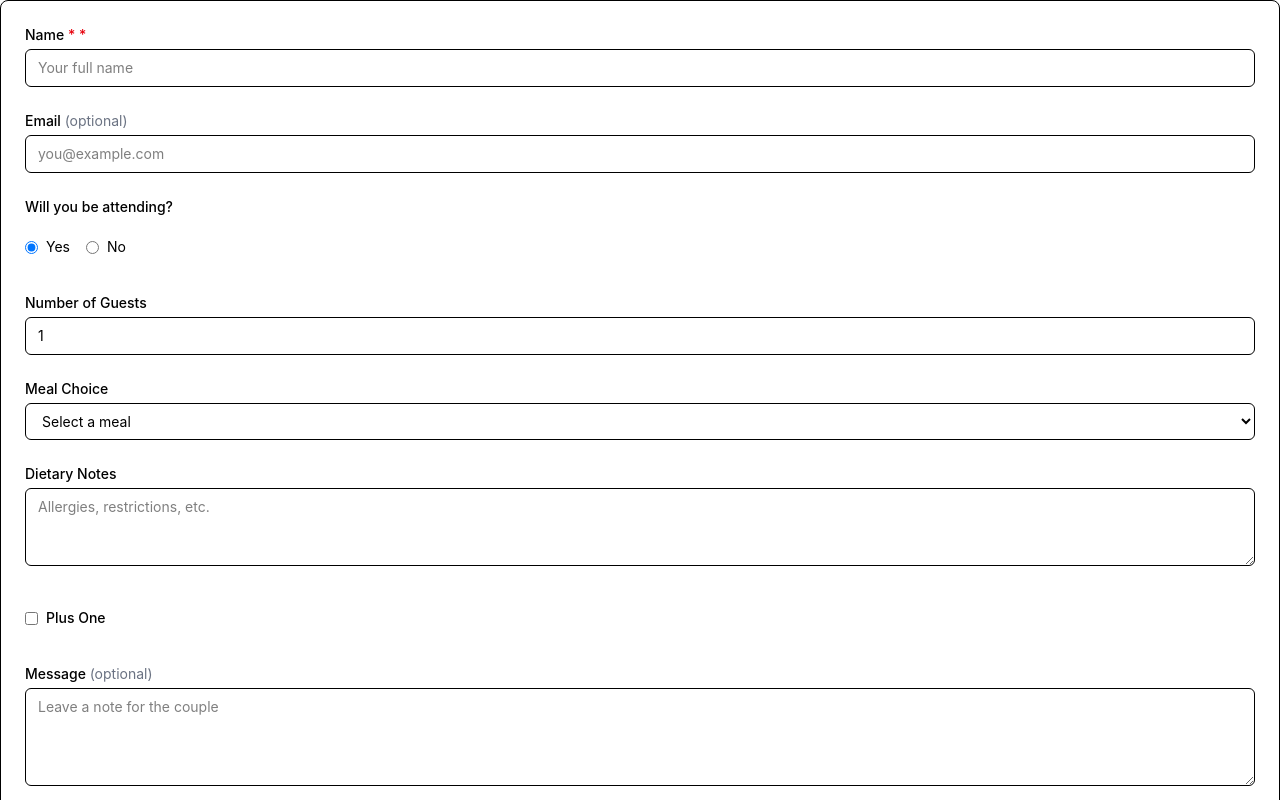
Test: RsvpForm › shows mealChoice only when attending
The width and height of the screenshot is (1280, 800).
Click the radio button labelled "No". click: (92, 247)
box: [86,240,99,254]
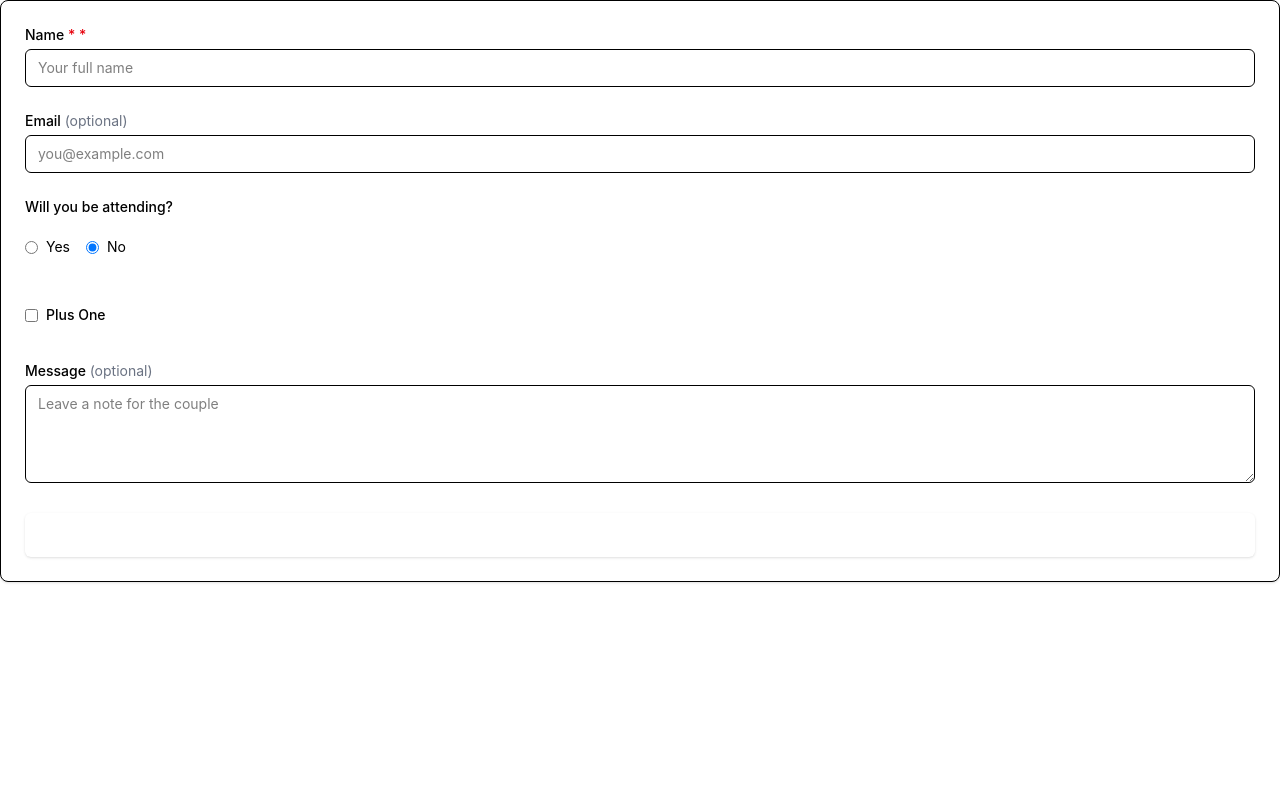
Expected: the label labelled "Meal" is gone
